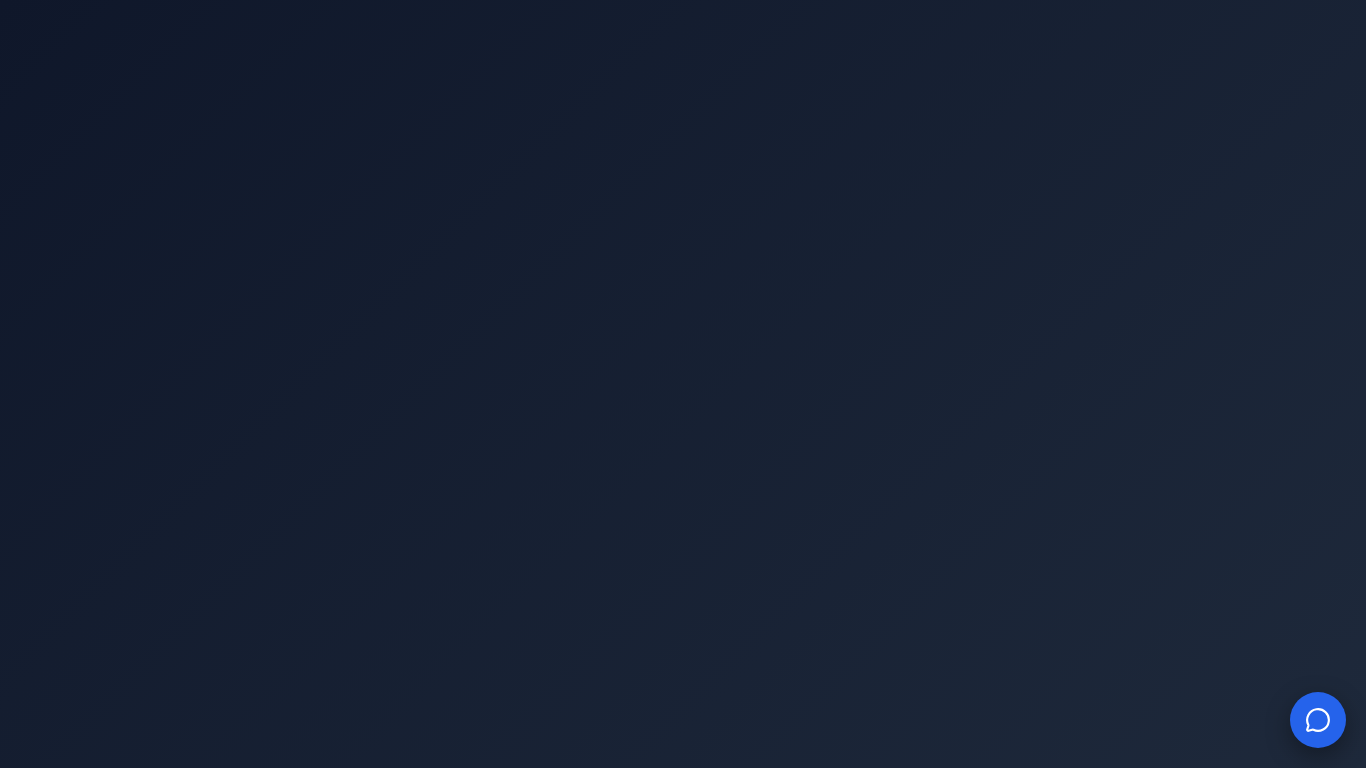
Test: ChatWidget › envía las respuestas anteriores como contexto
Later steps or results of the test are not shown.
Click the button named "Abrir el asistente del clima": x=1318, y=720 x1=1290 y1=692 x2=1346 y2=748
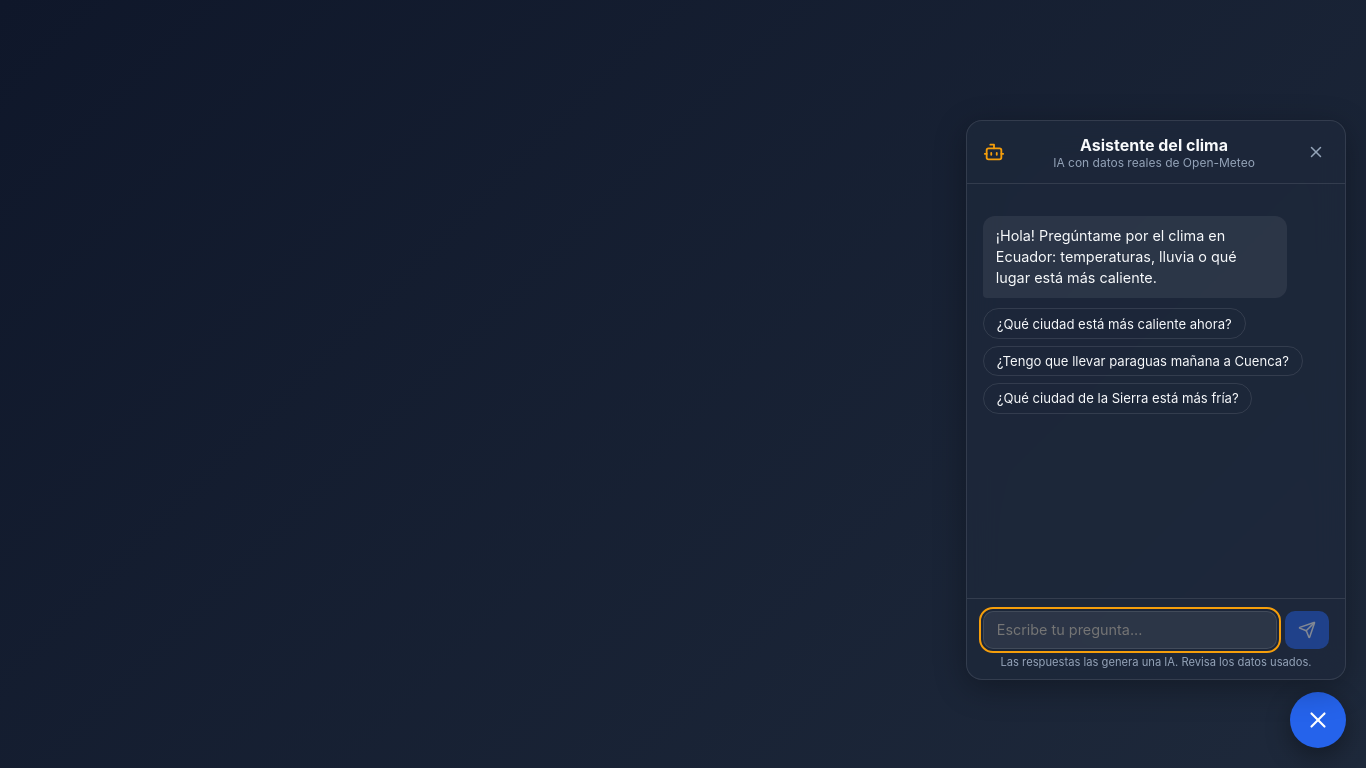
In the field labelled "Escribe tu pregunta": x=1130, y=630 x1=983 y1=611 x2=1277 y2=649, type "¿Llueve en Cuenca?"
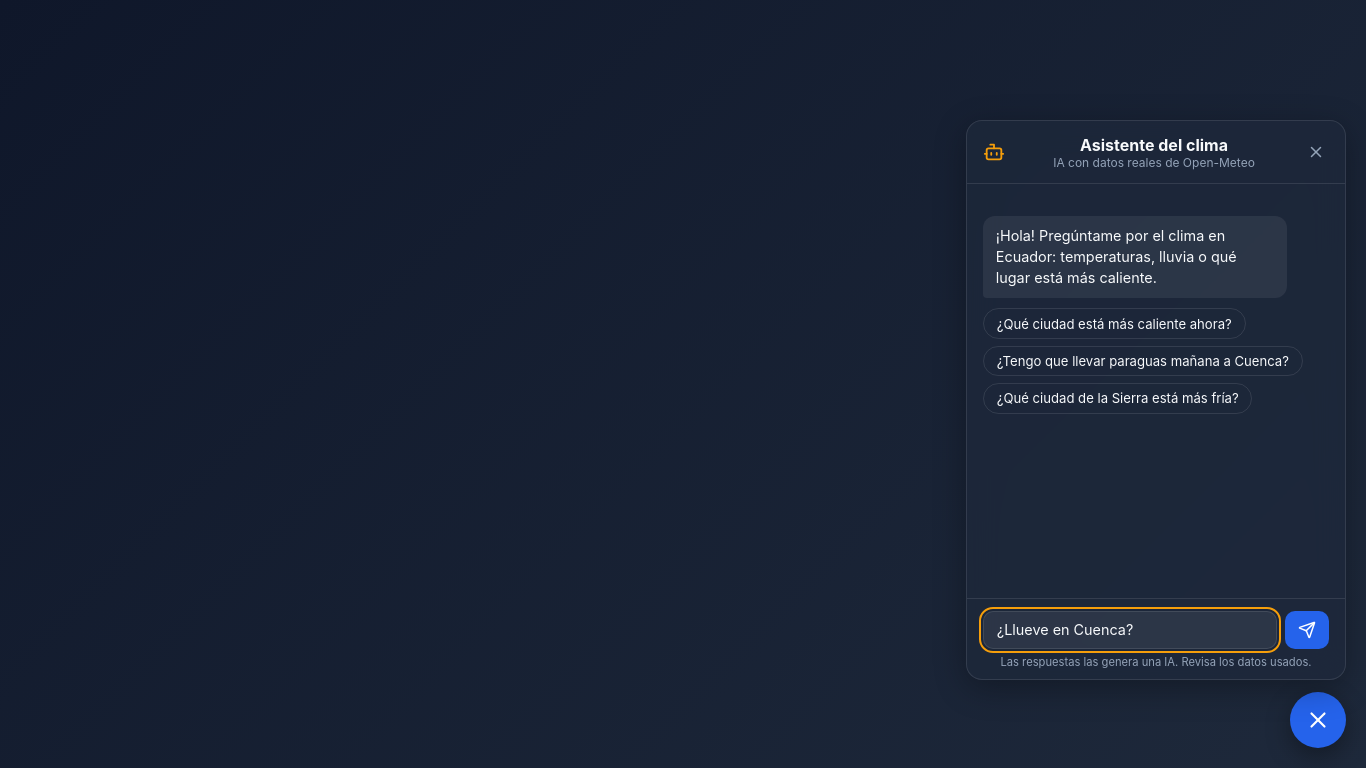
Click the button named "Enviar pregunta": x=1307, y=630 x1=1285 y1=611 x2=1329 y2=649
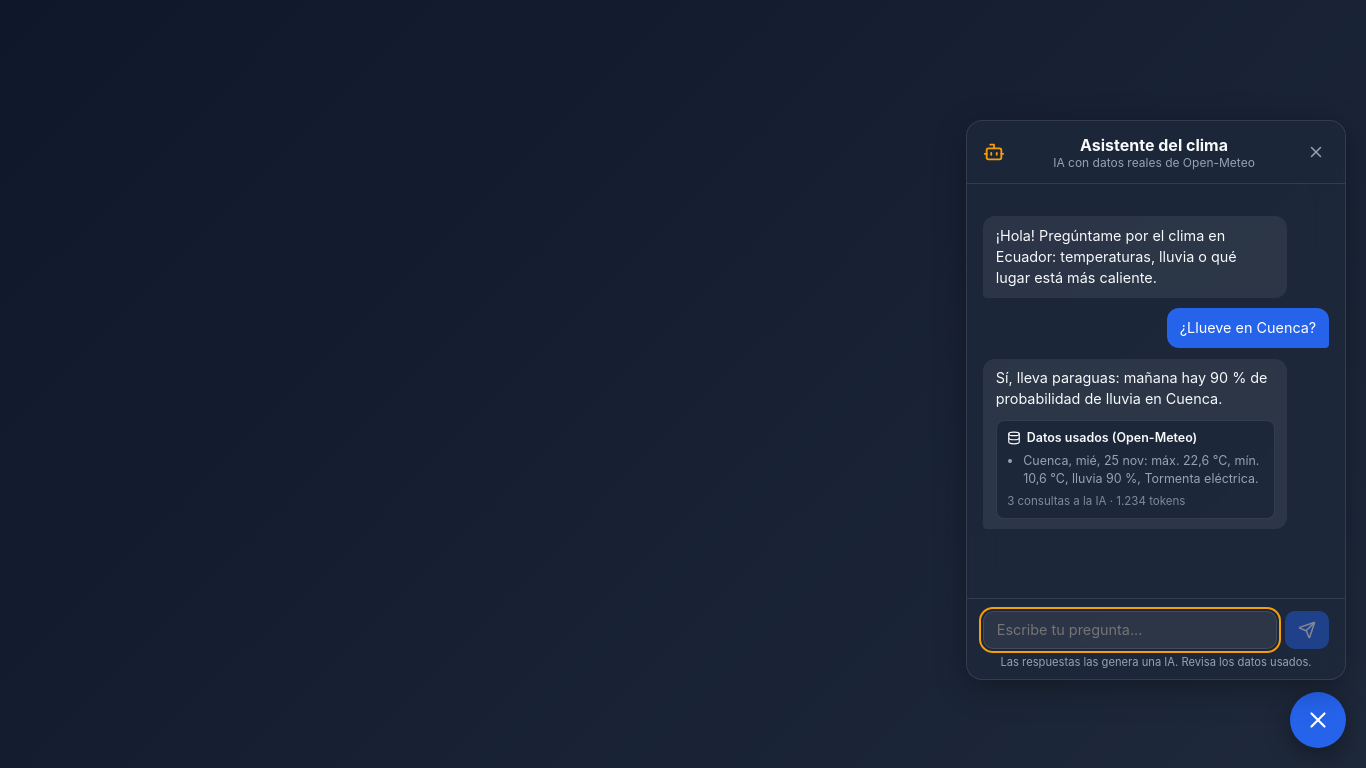
Check: the text "Sí, lleva paraguas: mañana hay 90 % de probabilidad de lluvia en Cuenca." is shown, box x1=996 y1=368 x2=1275 y2=410
